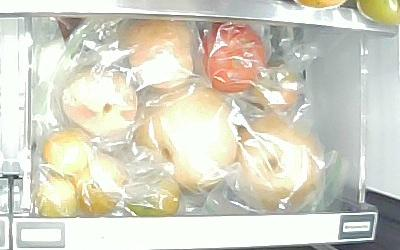peach_vinyl: (120, 18, 196, 89), (61, 67, 139, 134)
pear_vinyl: (137, 90, 238, 195), (236, 113, 326, 213)
tangerine_vinyl: (75, 154, 129, 214), (127, 173, 181, 217), (43, 132, 91, 175), (34, 175, 78, 217)
tomato_vinyl: (202, 19, 266, 93)
